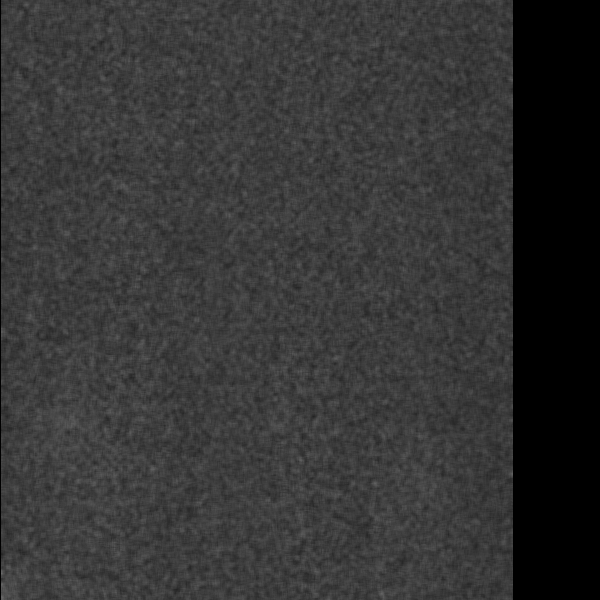spark: (168, 1, 203, 83), (465, 530, 484, 554)
